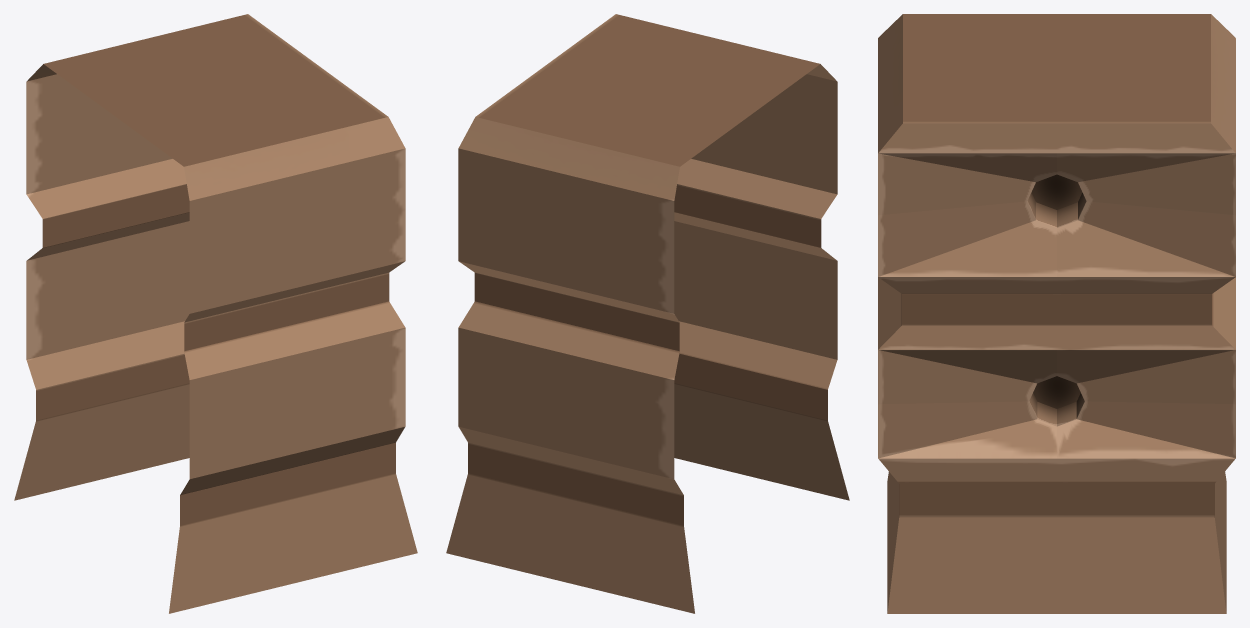
The model's file is MayanTrap.fbx.
3 renders of one model, left to right at view 1: azimuth 30°, elevation 25°; view 2: azimuth 150°, elevation 25°; view 3: azimuth 270°, elevation 25°, orthographic. The views are drawn at different scales.
Visible parts, largest first — view 1: pCube3; view 2: pCube3; view 3: pCube3.
Boxes of the visible parts, bbox=[...] form: pCube3: bbox=[14, 14, 417, 613]; pCube3: bbox=[446, 14, 849, 613]; pCube3: bbox=[878, 14, 1235, 613].
Bounding box in the file's own units: 3.25 × 5.45 × 3.69.
Materials: 1 (1 with a texture image).
